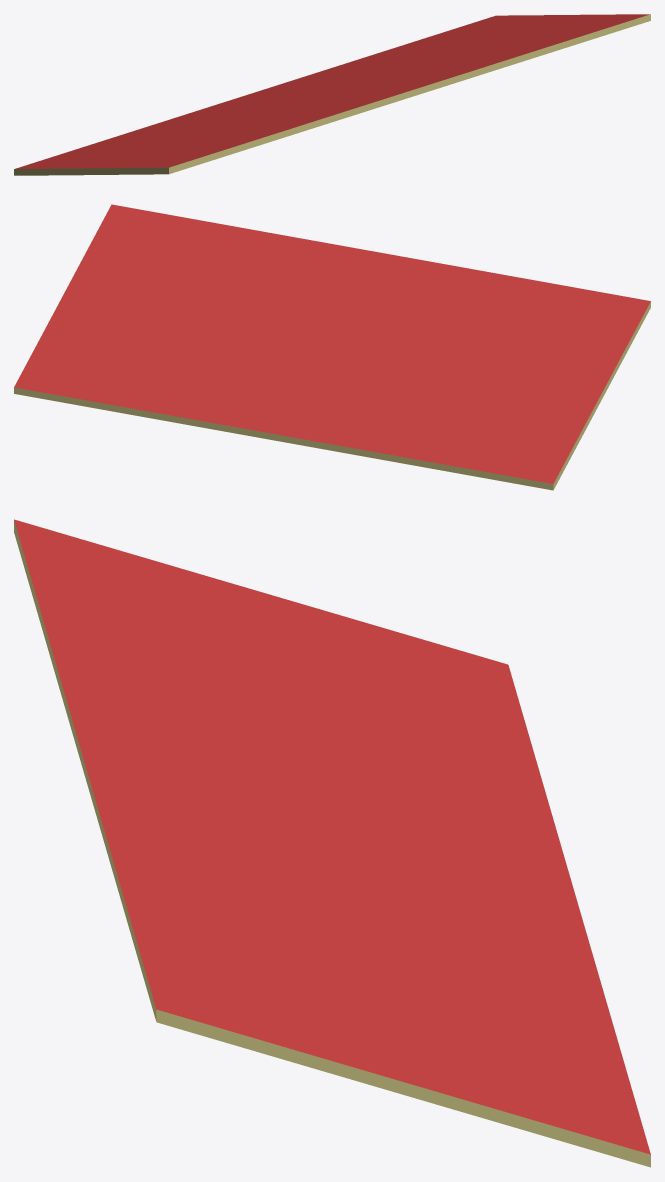
3 renders of one model, top to bottom at view 1: azimuth 30°, elevation 25°; view 2: azimuth 150°, elevation 25°; view 3: azimuth 270°, elevation 25°, orthographic. The views are drawn at different scales.
Size of the model in its own units: 8.59 by 4.48 by 1.43.
